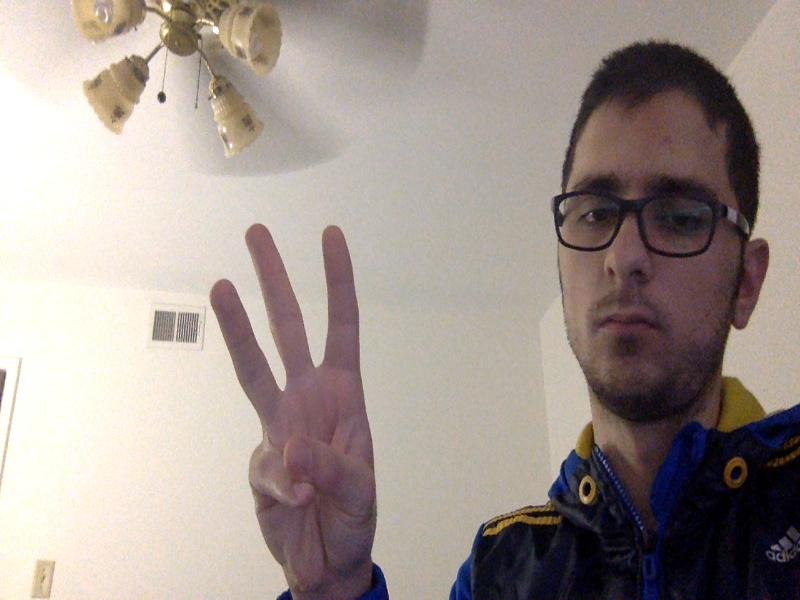3-hand: (209, 220, 377, 590)
